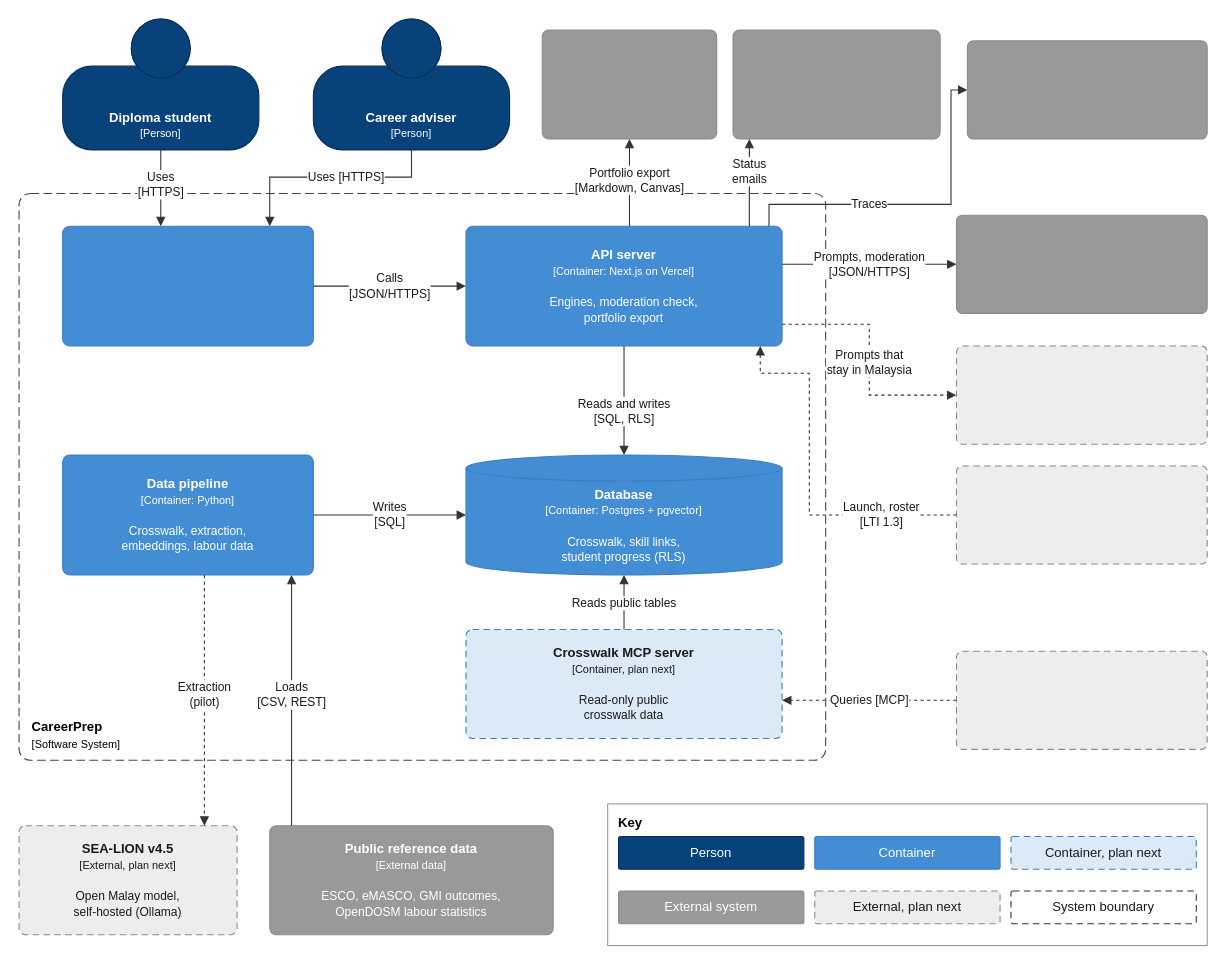
Image size: 1226x965. Some labels were removed from this diagram. Each missing label, with the centre of its shape:
Advisers' AI assistants [External, plan next] Query the crosswalk: [1081,699]
Email provider [External system] Booking status emails [SMTP]: [836,84]
ILMU API [External, plan next] Malaysian-hosted model: [1081,394]
Institution LMS [External, plan next] Launches CareerPrep with the class roster: [1081,514]
Langfuse [External system] Traces each AI call (demo data only): [1086,89]
Notes app [External: Obsidian] Opens the exported portfolio: [629,84]
OpenAI API [External system] Model, embeddings, moderation: [1081,263]
Web app [Container: Next.js PWA] Student screens and adviser dashboard: [187,285]
